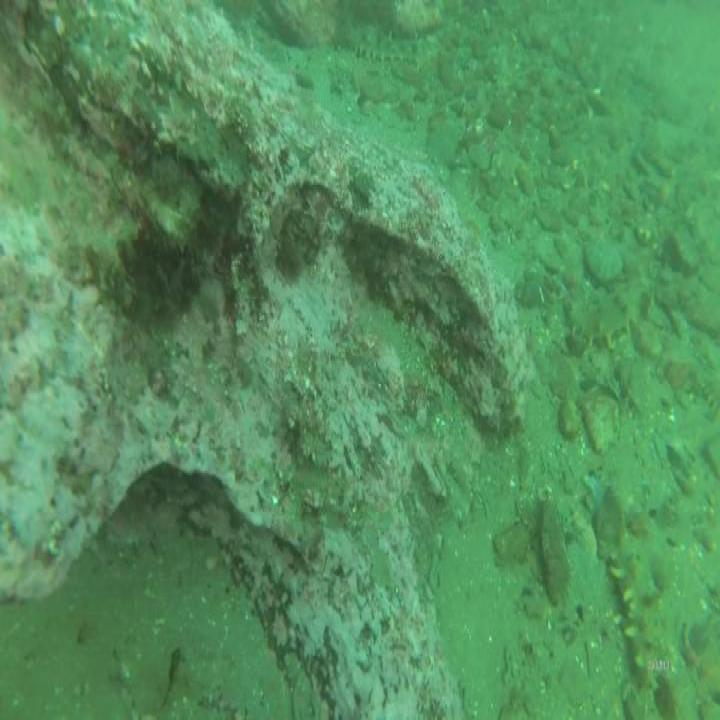holothurian: (607, 542, 656, 692), (570, 302, 641, 358), (350, 39, 422, 71)
